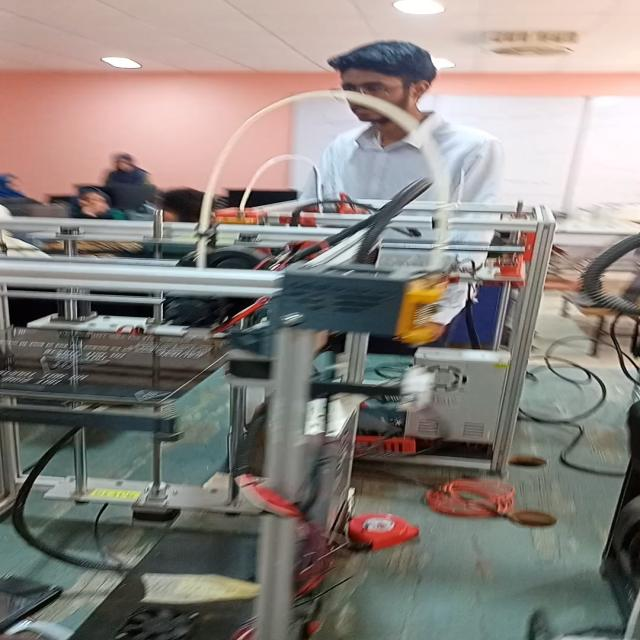dress: (316, 110, 512, 212)
